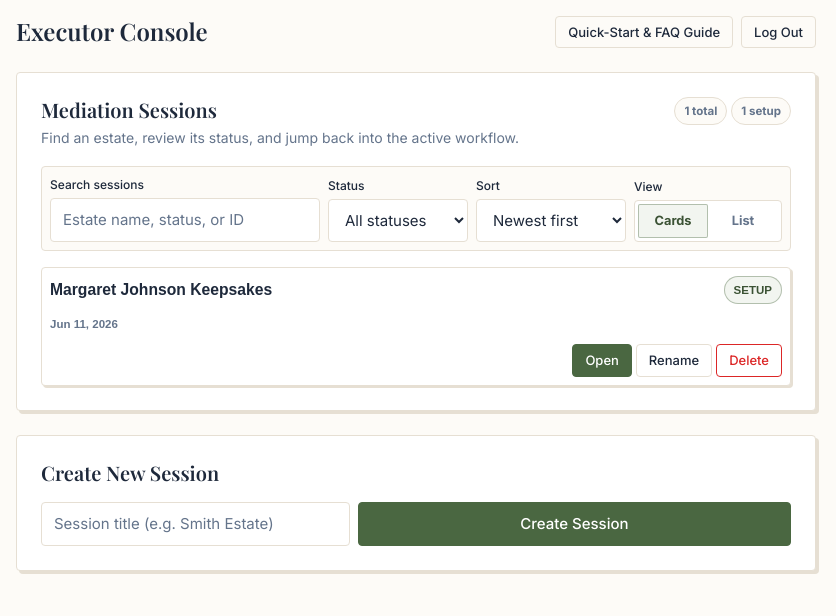
Test case: AdminDashboard › allows cancelling the inline renaming of a session
// Toggle edit mode
Click the button with test id "edit-session-btn-session-1" at (674, 360), box [636,344,712,376]
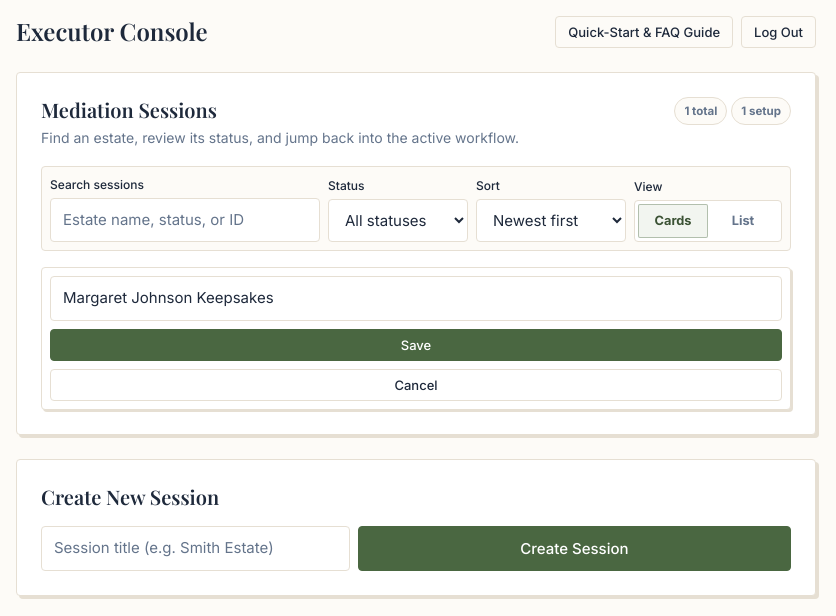
Result: the field with test id "edit-session-title-input-session-1" is shown at [50,276,782,321]
// Cancel edit mode
Click the button with test id "cancel-session-btn-session-1" at (416, 385), box [50,369,782,401]
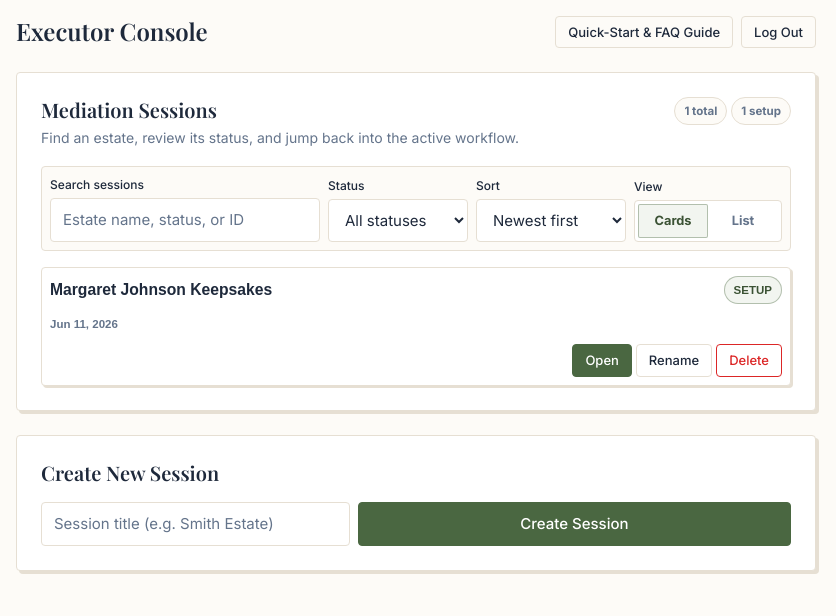
Result: the field with test id "edit-session-title-input-session-1" is gone
Result: the text "Margaret Johnson Keepsakes" is shown at [50,281,272,298]
